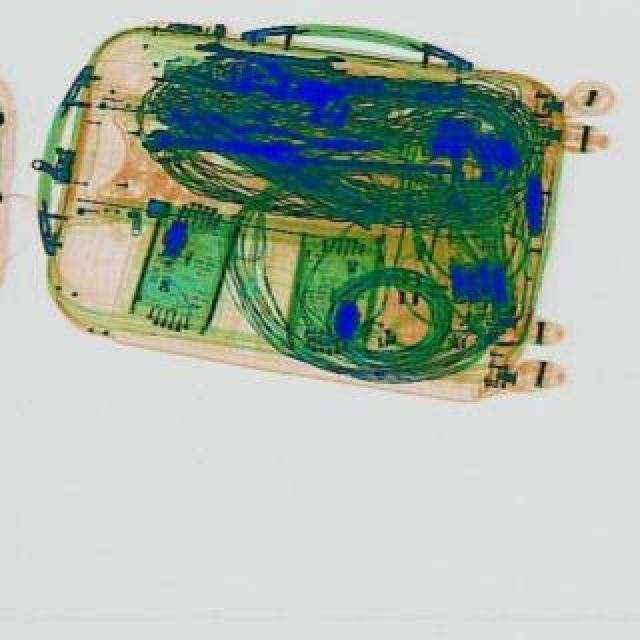scissors: (192, 42, 346, 82), (140, 134, 294, 168)
